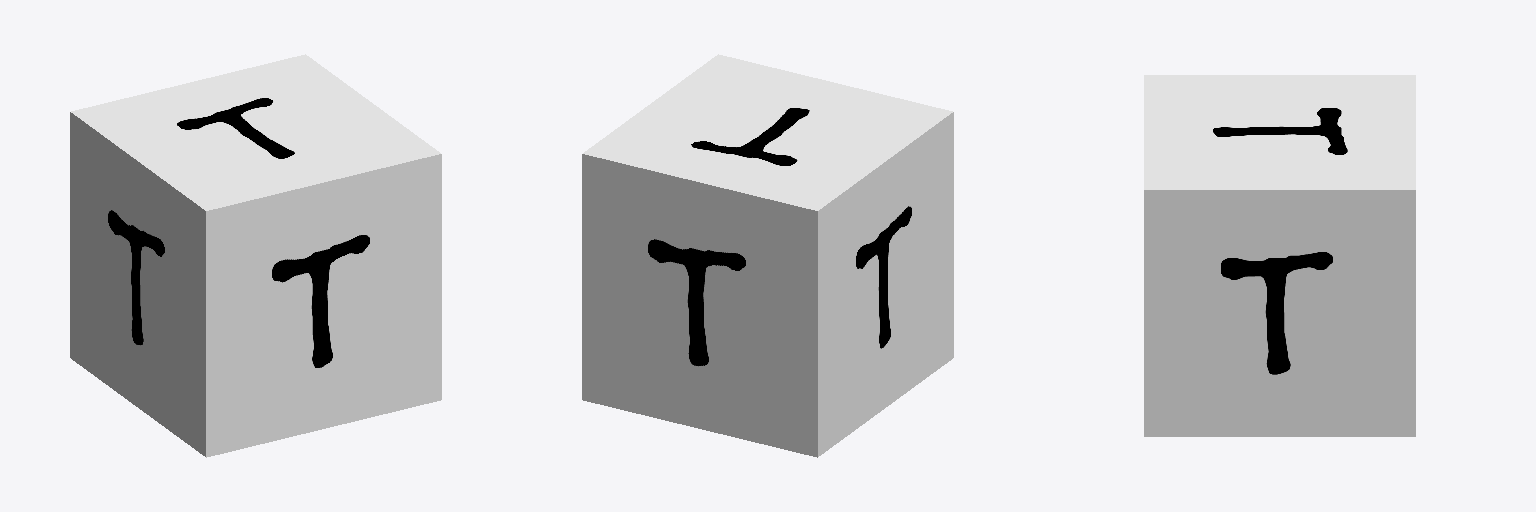
3 views of the same model, side by side, from view 1: azimuth 30°, elevation 25°; view 2: azimuth 150°, elevation 25°; view 3: azimuth 270°, elevation 25° (orthographic).
Visible parts, largest first — view 1: Cube; view 2: Cube; view 3: Cube.
Boxes of the visible parts, x1=… form: Cube: x1=70, y1=54, x2=441, y2=457; Cube: x1=582, y1=54, x2=953, y2=457; Cube: x1=1144, y1=75, x2=1415, y2=436.
Size of the model in its own units: 2 by 2 by 2.
1 materials, 1 textured.